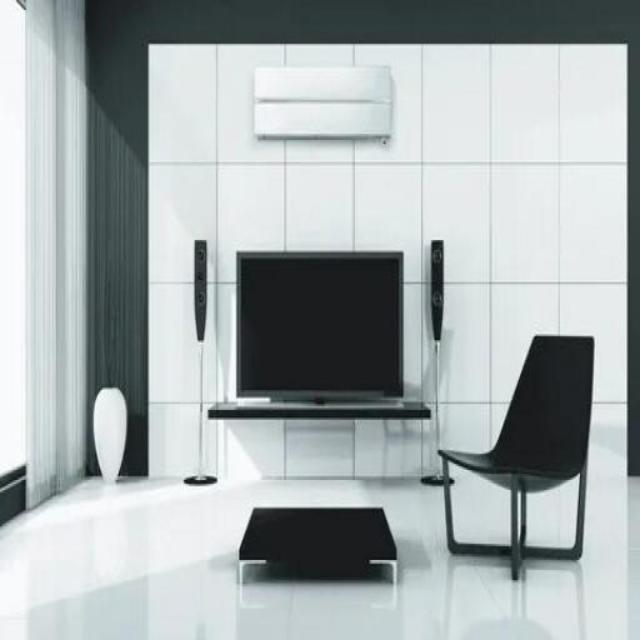Flat-Panel-TV: (235, 246, 408, 407)
